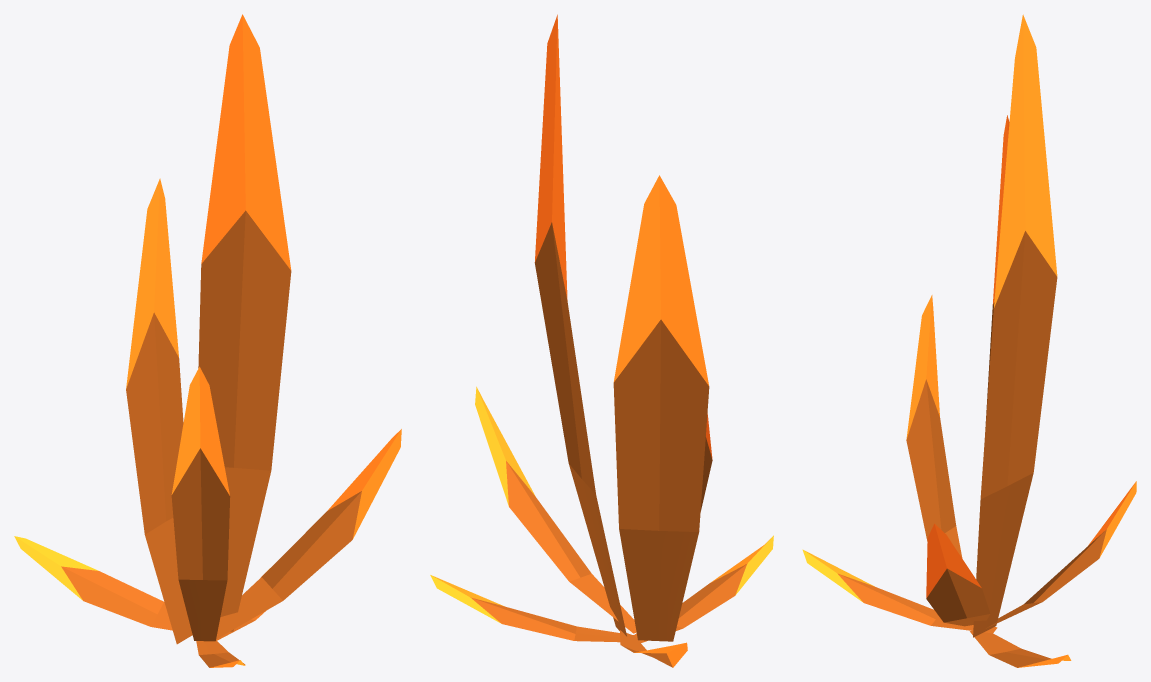
File: scifi_scifi-plant-grass-big.fbx
The picture shows the model from 3 angles, left to right: view 1: azimuth 30°, elevation 25°; view 2: azimuth 150°, elevation 25°; view 3: azimuth 270°, elevation 25°; orthographic projection. The views are drawn at different scales.
Visible parts, largest first — view 1: scifi_scifi_plant_grass_big; view 2: scifi_scifi_plant_grass_big; view 3: scifi_scifi_plant_grass_big.
Boxes of the visible parts, x1,y1,x2,y2 form: scifi_scifi_plant_grass_big: (14, 14, 401, 667); scifi_scifi_plant_grass_big: (430, 14, 773, 667); scifi_scifi_plant_grass_big: (802, 14, 1136, 667).
Bounding box in the file's own units: 103 × 200 × 93.68.
